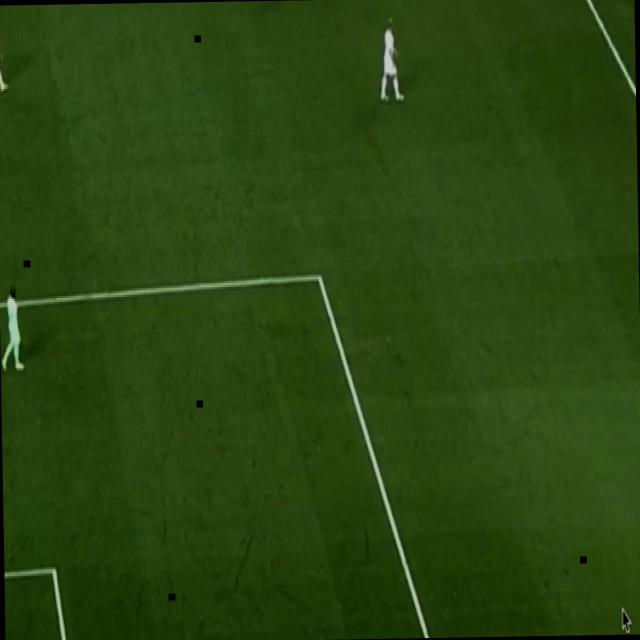player-white: (376, 14, 408, 107), (0, 280, 26, 370), (0, 10, 12, 100)
